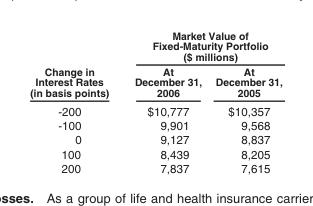table: (29, 28, 281, 174)
table column: (29, 28, 121, 174), (121, 28, 207, 174), (207, 28, 281, 174)
table column header: (29, 28, 281, 101)
table row: (29, 63, 281, 101), (29, 28, 281, 63), (29, 101, 281, 118), (29, 118, 281, 132), (29, 132, 281, 146), (29, 146, 281, 160), (29, 160, 281, 174)
table spanning cell: (29, 28, 121, 101), (121, 28, 281, 63)
